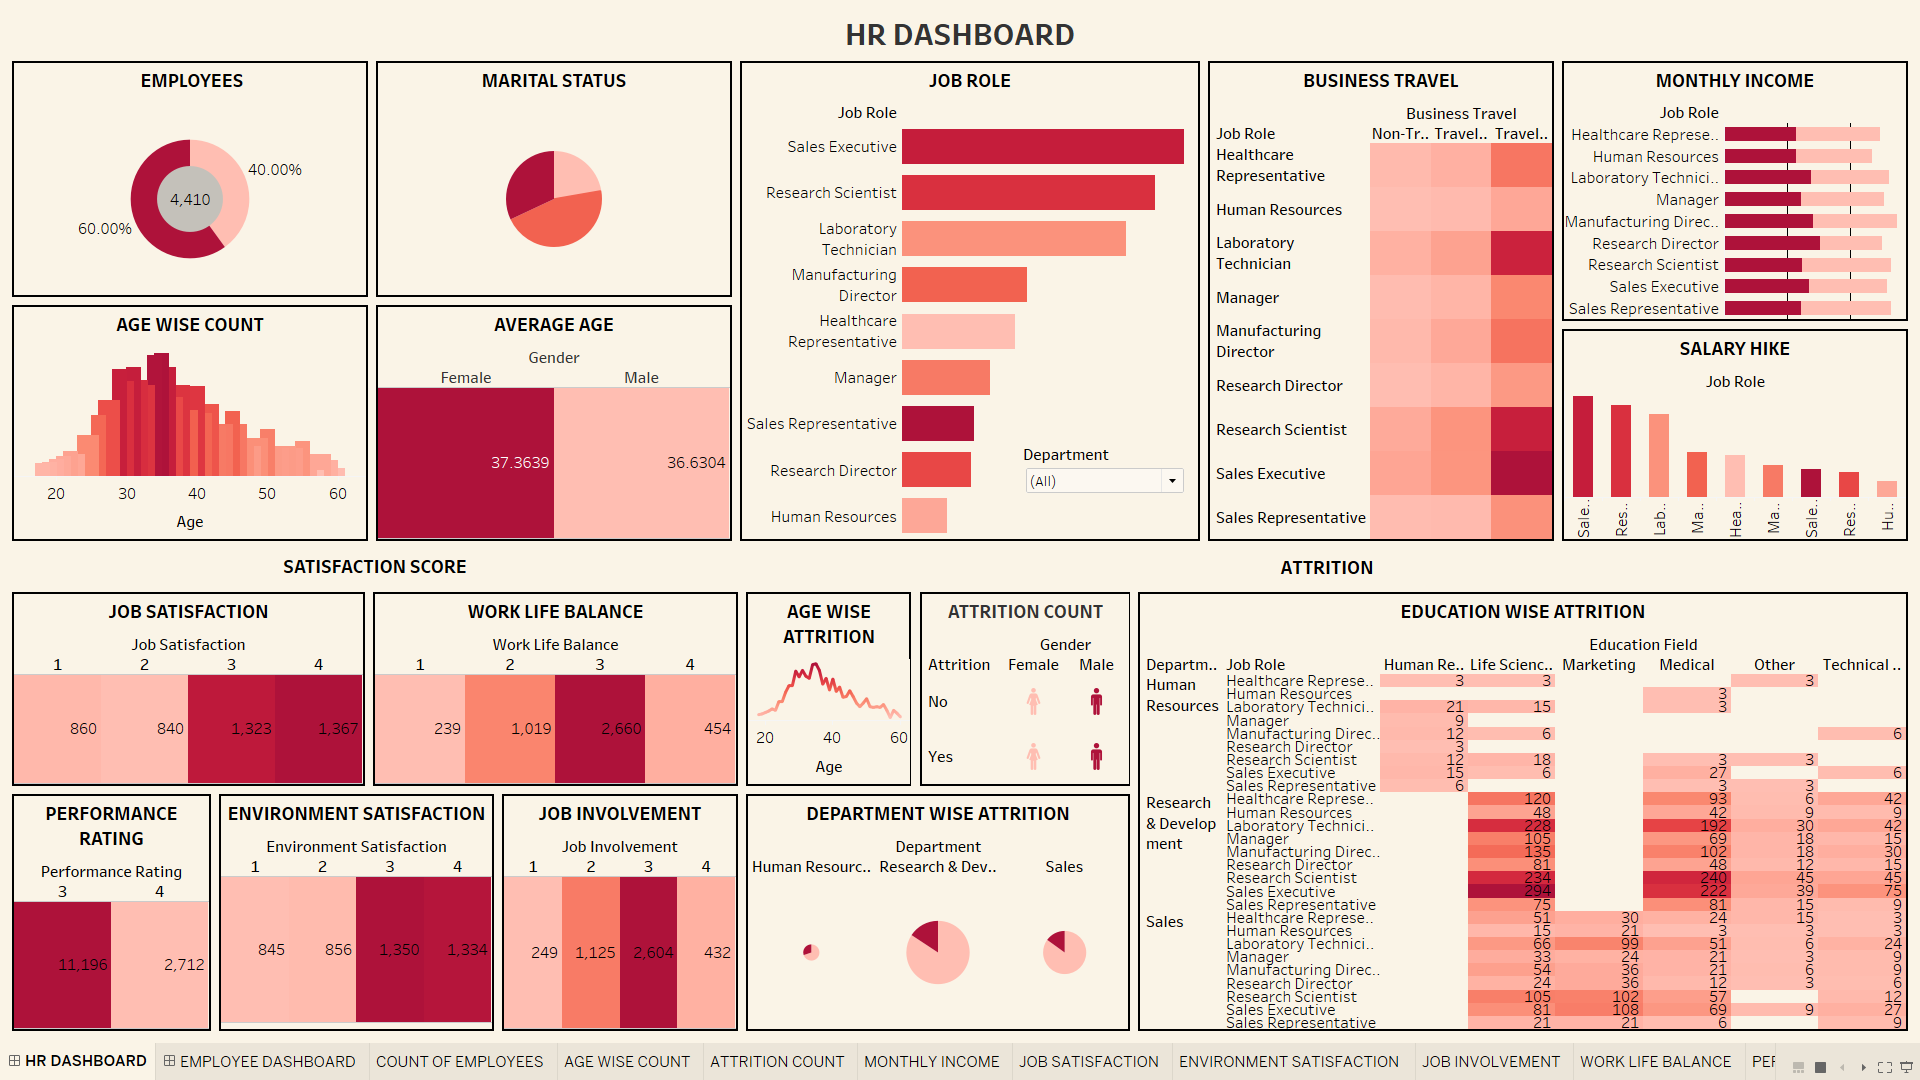

Layout of this report page (visuals, bound fields, positions):
{"tool":"tableau","page":{"name":"HR DASHBOARD","canvas":[1000,1000],"units":"permille","ordinal":1},"visuals":[{"type":"title","box":[4.2,7.7,991.7,47]},{"type":"worksheet","title":"COUNT OF EMPLOYEES","mark":"Pie","rows":["Calculation_923237933522931715","Calculation_923237933522931715"],"box":[4.2,54.6,189.5,233.7]},{"type":"worksheet","title":"MARITAL STATUS","mark":"Pie","box":[193.6,54.6,189.7,233.7]},{"type":"worksheet","title":"JOB ROLE","mark":"Automatic","rows":["JobRole"],"cols":["JobRole"],"box":[383.3,54.6,243.5,467.7]},{"type":"worksheet","title":"BUSINESS TRAVEL","mark":"Automatic","rows":["JobRole"],"cols":["BusinessTravel"],"box":[626.8,54.6,184.4,467.7]},{"type":"worksheet","title":"MONTHLY INCOME","mark":"Automatic","rows":["JobRole"],"cols":["MonthlyIncome"],"box":[811.2,54.6,184.6,257.3]},{"type":"worksheet","title":"AGE WISE COUNT","mark":"Bar","rows":["EmployeeCount"],"cols":["Age"],"box":[4.2,288.4,189.5,234]},{"type":"worksheet","title":"AVERAGE AGE","mark":"Square","cols":["Gender"],"box":[193.6,288.4,189.7,234]},{"type":"worksheet","title":"SALARY HIKE","mark":"Automatic","rows":["PercentSalaryHike"],"cols":["JobRole"],"box":[811.2,311.9,184.6,210.5]},{"type":"filter","title":"AGE WISE ATTRITION","param":"[federated.0qryvcb1iuf78s18obovk10uhp0v].[none:Department:nk]","box":[532.8,425.9,85.3,49.4]},{"type":"worksheet","title":"SATISFACTION SCORE","mark":"Automatic","box":[4.2,522.4,382.4,41]},{"type":"text","box":[386.6,522.4,609.3,41]},{"type":"worksheet","title":"JOB SATISFACTION","mark":"Square","cols":["JobSatisfaction"],"box":[4.2,563.4,188.1,193.5]},{"type":"worksheet","title":"WORK LIFE BALANCE","mark":"Square","cols":["WorkLifeBalance"],"box":[192.2,563.4,194.3,193.5]},{"type":"worksheet","title":"AGE WISE ATTRITION","mark":"Line","rows":["Attrition"],"cols":["Age"],"box":[386.5,563.4,90.4,193.5]},{"type":"worksheet","title":"ATTRITION COUNT","mark":"Shape","rows":["Attrition"],"cols":["Gender"],"box":[476.9,563.4,114,193.5]},{"type":"worksheet","title":"EDUCATION WISE ATTRITION","mark":"Square","rows":["Department","JobRole"],"cols":["EducationField"],"box":[590.9,563.4,405,428.9]},{"type":"worksheet","title":"PERFORMANCE RATING","mark":"Square","cols":["PerformanceRating"],"box":[4.2,756.9,107.7,235.4]},{"type":"worksheet","title":"ENVIRONMENT SATISFACTION","mark":"Square","cols":["EnvironmentSatisfaction"],"box":[111.9,756.9,147.5,235.4]},{"type":"worksheet","title":"JOB INVOLVEMENT","mark":"Square","cols":["JobInvolvement"],"box":[259.3,756.9,127.2,235.4]},{"type":"worksheet","title":"DEPARTMENT WISE ATTRITION","mark":"Pie","cols":["Department"],"box":[386.5,756.9,204.3,235.4]}]}

Visuals, with their boxes on the dashboard's canvas, which has no fixed pixel size, in thousandths of its width and height (x1, y1, x2, y2). These are canvas units, not pixel positions in the 1920x1080 screenshot, which may show the page scaled, cropped or inside an application window:
title: locate(4, 8, 996, 55)
"COUNT OF EMPLOYEES" worksheet (Pie marks): locate(4, 55, 194, 288)
"MARITAL STATUS" worksheet (Pie marks): locate(194, 55, 383, 288)
"JOB ROLE" worksheet: locate(383, 55, 627, 522)
"BUSINESS TRAVEL" worksheet: locate(627, 55, 811, 522)
"MONTHLY INCOME" worksheet: locate(811, 55, 996, 312)
"AGE WISE COUNT" worksheet (Bar marks): locate(4, 288, 194, 522)
"AVERAGE AGE" worksheet (Square marks): locate(194, 288, 383, 522)
"SALARY HIKE" worksheet: locate(811, 312, 996, 522)
"AGE WISE ATTRITION" filter: locate(533, 426, 618, 475)
"SATISFACTION SCORE" worksheet: locate(4, 522, 387, 563)
text: locate(387, 522, 996, 563)
"JOB SATISFACTION" worksheet (Square marks): locate(4, 563, 192, 757)
"WORK LIFE BALANCE" worksheet (Square marks): locate(192, 563, 386, 757)
"AGE WISE ATTRITION" worksheet (Line marks): locate(386, 563, 477, 757)
"ATTRITION COUNT" worksheet (Shape marks): locate(477, 563, 591, 757)
"EDUCATION WISE ATTRITION" worksheet (Square marks): locate(591, 563, 996, 992)
"PERFORMANCE RATING" worksheet (Square marks): locate(4, 757, 112, 992)
"ENVIRONMENT SATISFACTION" worksheet (Square marks): locate(112, 757, 259, 992)
"JOB INVOLVEMENT" worksheet (Square marks): locate(259, 757, 386, 992)
"DEPARTMENT WISE ATTRITION" worksheet (Pie marks): locate(386, 757, 591, 992)
